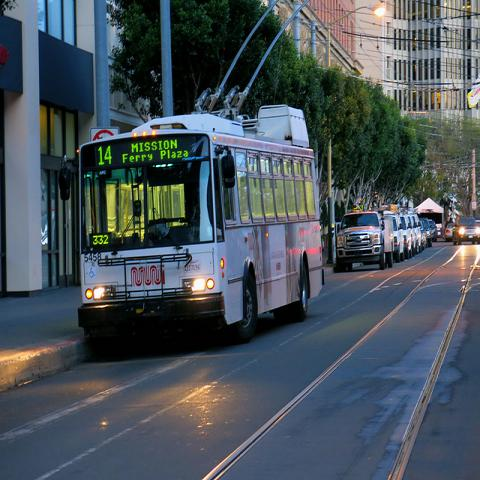bus: (76, 104, 322, 360)
car: (383, 212, 405, 262), (451, 216, 480, 246), (400, 216, 412, 260), (421, 217, 431, 247), (444, 222, 454, 242)
truck: (336, 210, 394, 272)
